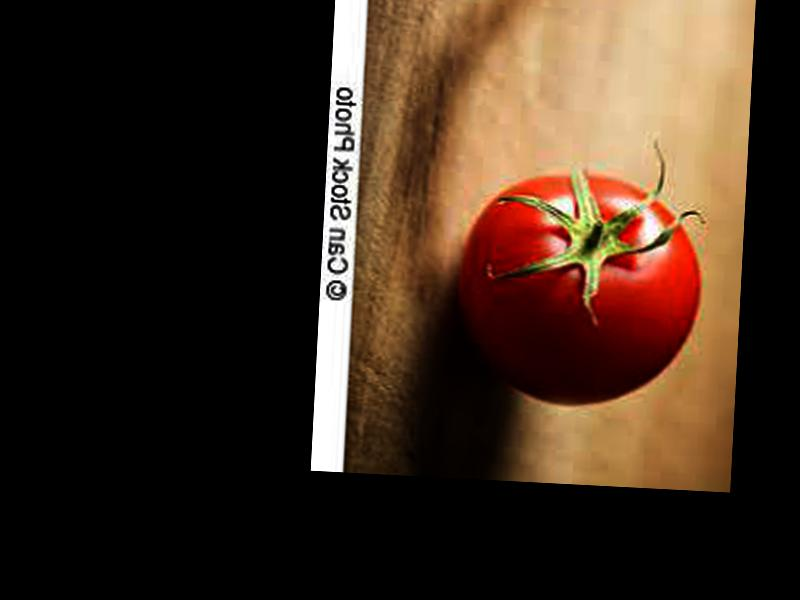Tomato: (455, 166, 702, 409)
